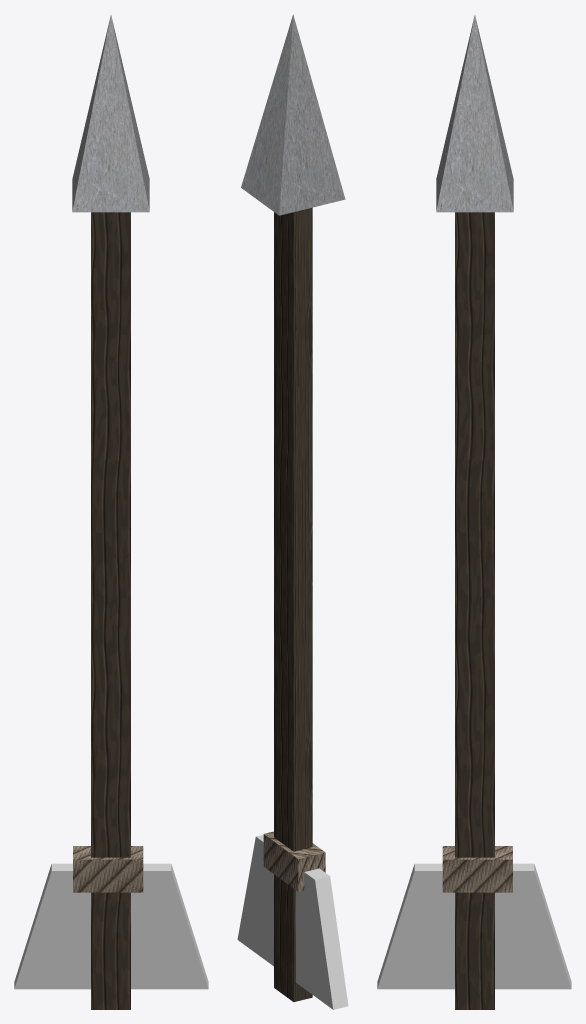
File: arrow.FBX
3 views of the same model, side by side, from view 1: azimuth 90°, elevation 25°; view 2: azimuth 210°, elevation 25°; view 3: azimuth 270°, elevation 25° (orthographic).
Parts seen in each view (by area): view 1: Box002; view 2: Box002; view 3: Box002.
Part boxes in pixels (bbox=[...]): Box002: bbox=[14, 15, 208, 1009]; Box002: bbox=[237, 14, 348, 1009]; Box002: bbox=[377, 15, 571, 1009].
Size of the model in its own units: 0.6601 by 9.31 by 1.65.
4 materials, 3 textured.
